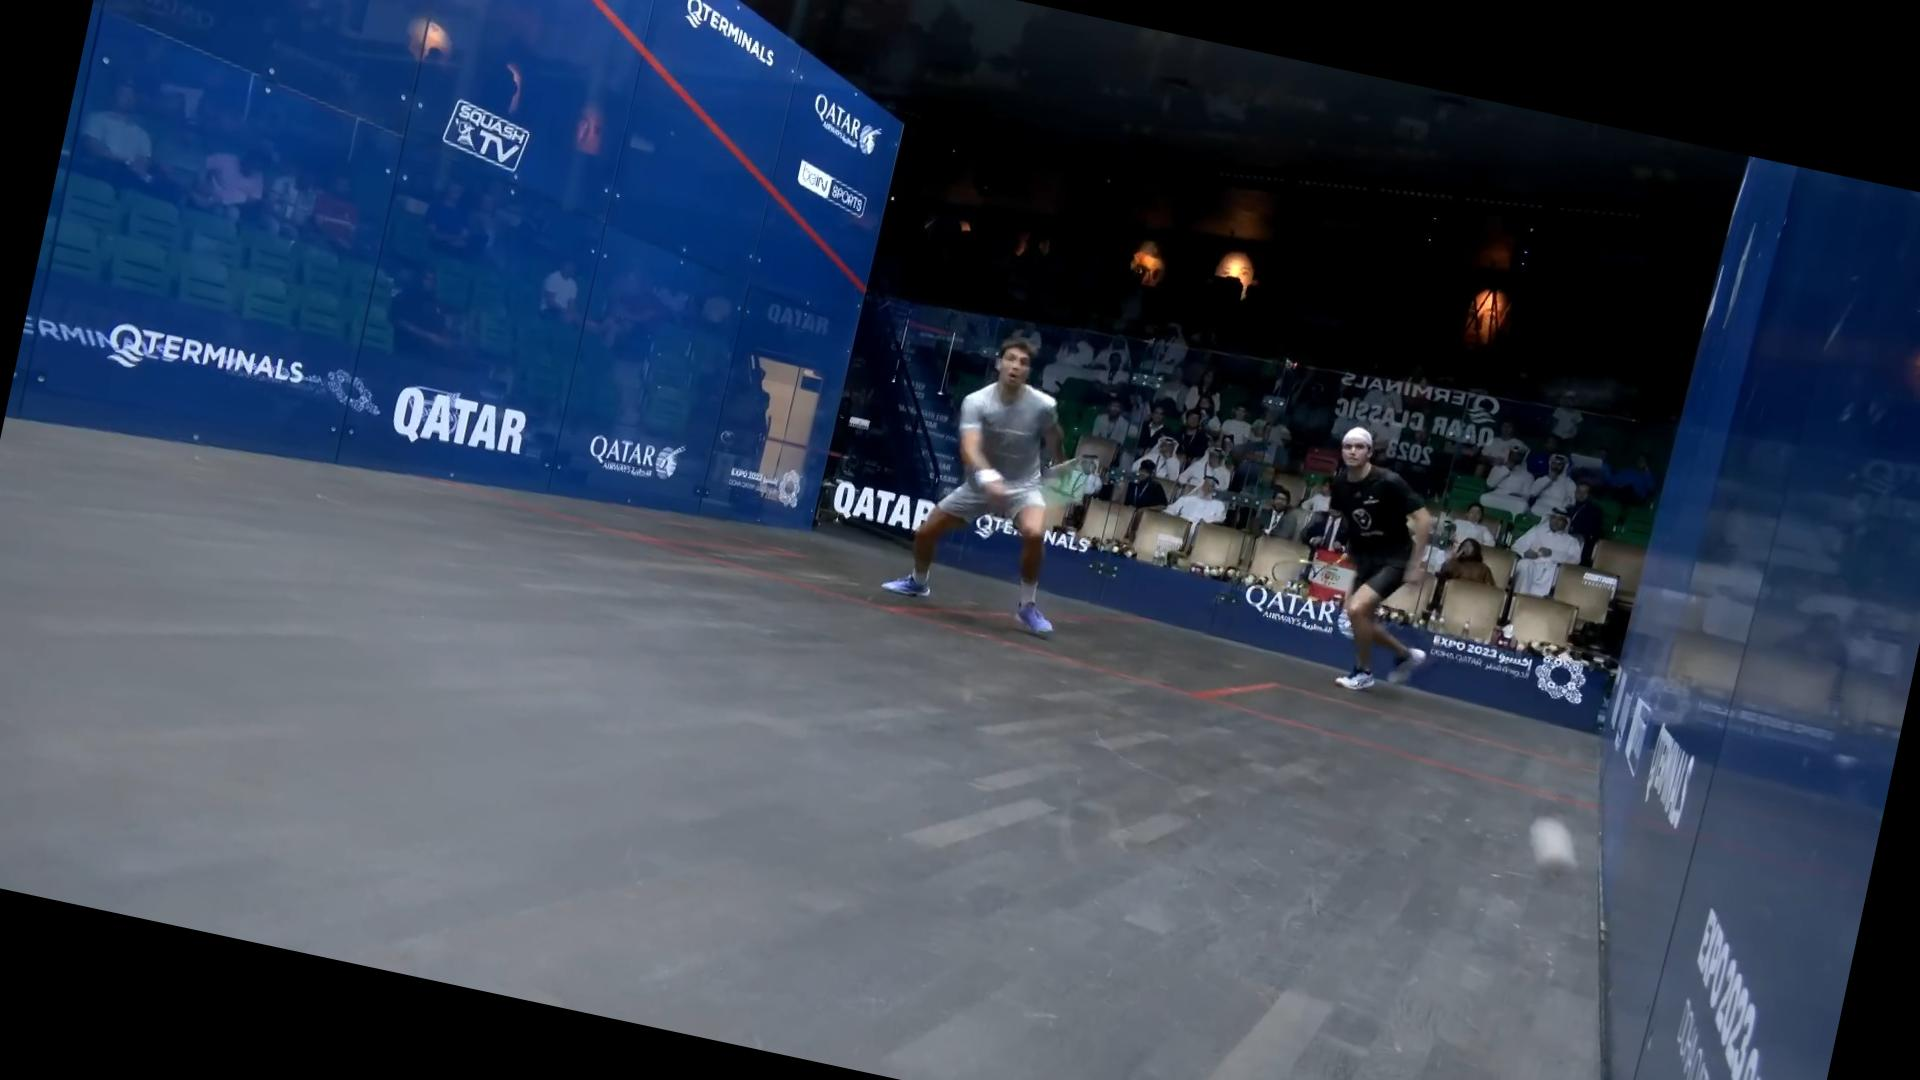Racket: (1265, 543, 1342, 599)
